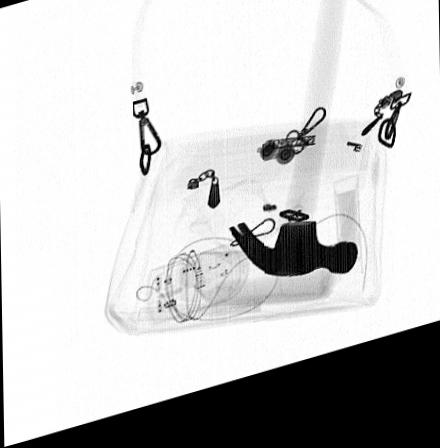Hammer: (224, 0, 357, 294)
